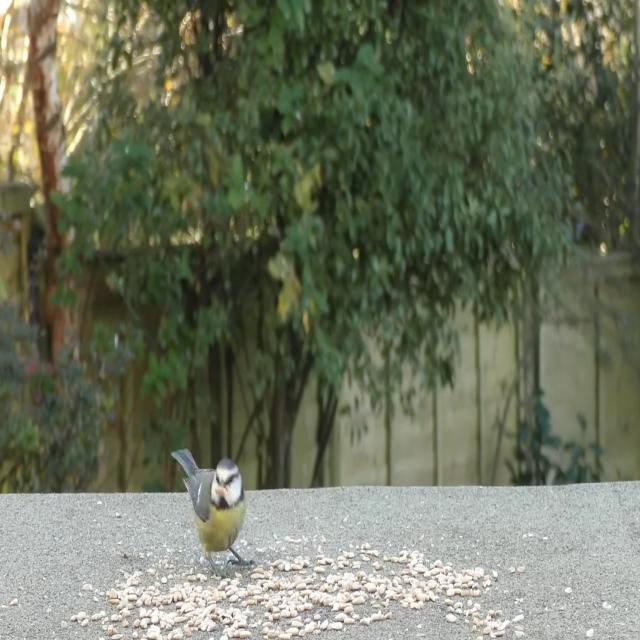beak: (217, 486, 226, 496)
bird: (164, 437, 250, 591)
